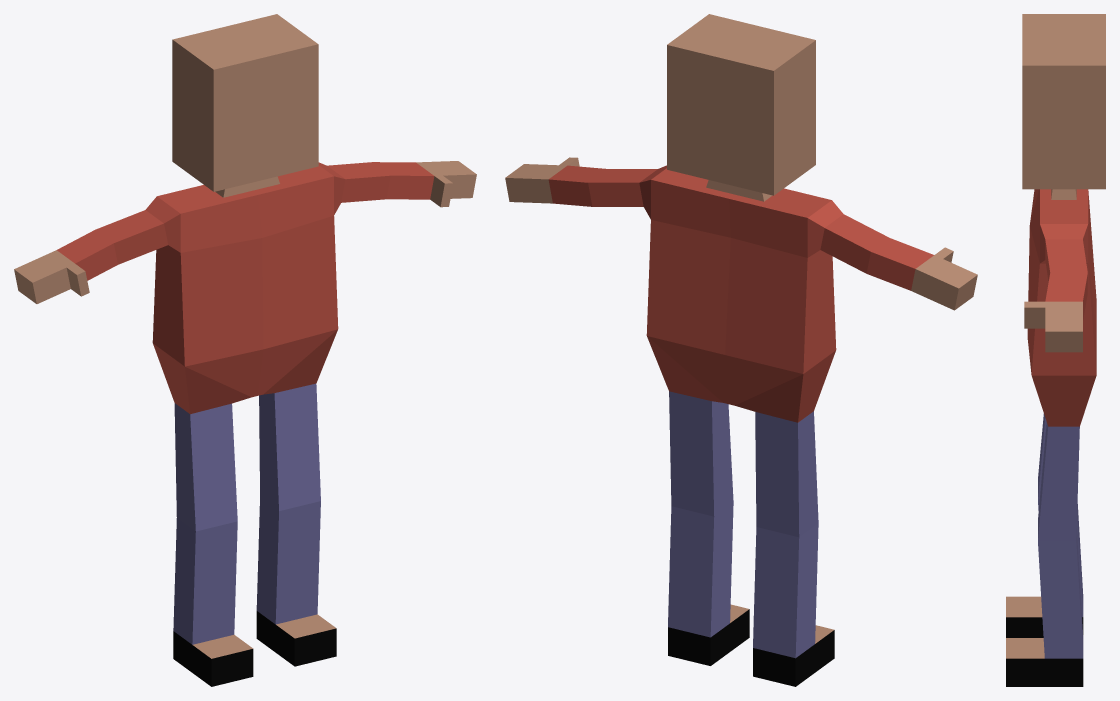
File: Player.glb
The picture shows the model from 3 angles, left to right: view 1: azimuth 30°, elevation 25°; view 2: azimuth 150°, elevation 25°; view 3: azimuth 270°, elevation 25°; orthographic projection. The views are drawn at different scales.
Parts seen in each view (by area): view 1: Reference; view 2: Reference; view 3: Reference.
Part boxes in pixels (x1=…): Reference: x1=14, y1=14, x2=476, y2=686; Reference: x1=505, y1=14, x2=977, y2=686; Reference: x1=1006, y1=14, x2=1105, y2=686.
Bounding box in the file's own units: 1.6 × 2.09 × 0.3067.
Materials: 1 (1 with a texture image).
